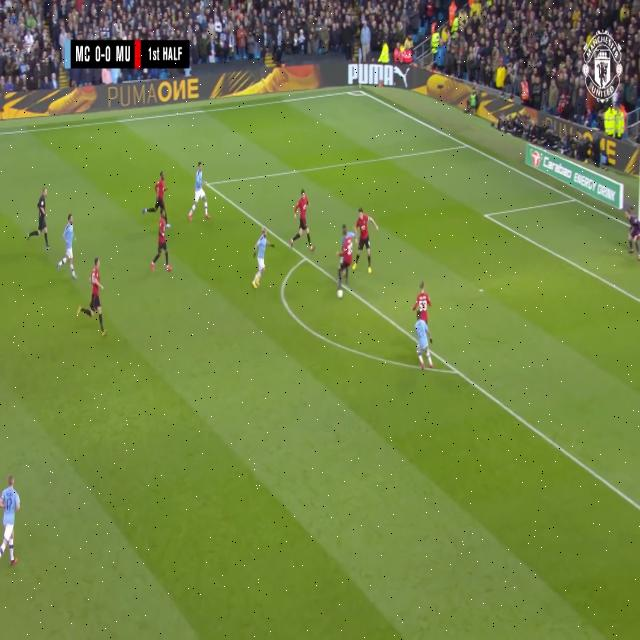Ball: (336, 288, 344, 299)
GoalKeeper: (626, 208, 640, 255)
TEAM 1: (80, 256, 106, 334), (152, 212, 174, 286), (290, 190, 314, 253), (143, 167, 168, 219), (357, 206, 372, 282), (410, 269, 430, 326), (337, 229, 353, 297)
TEAM 2: (0, 473, 22, 569), (187, 161, 211, 223), (414, 305, 436, 369), (58, 213, 77, 281), (252, 232, 270, 292), (338, 224, 354, 243)
